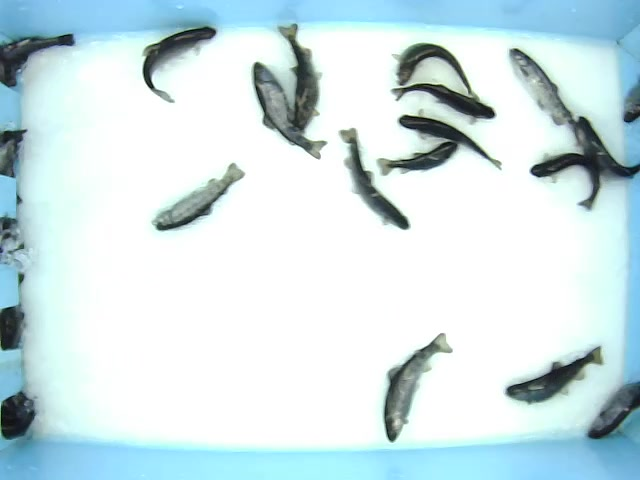fish: (383, 331, 454, 442), (248, 59, 326, 160), (338, 128, 412, 230), (149, 163, 243, 233), (507, 48, 580, 134), (143, 22, 217, 104), (396, 113, 504, 169), (502, 345, 605, 403), (390, 42, 474, 99), (387, 81, 497, 121), (279, 23, 320, 129), (575, 114, 640, 177), (529, 153, 599, 211), (375, 133, 458, 176)
